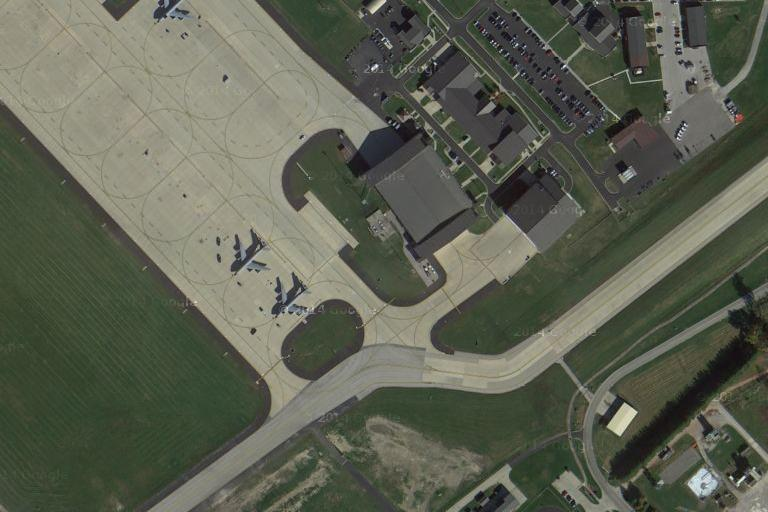KC-135: (228, 233, 273, 280), (271, 275, 312, 321)
